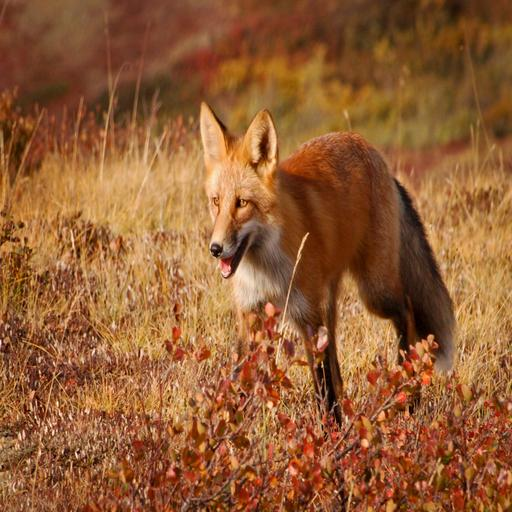Fox: (199, 93, 464, 450)
